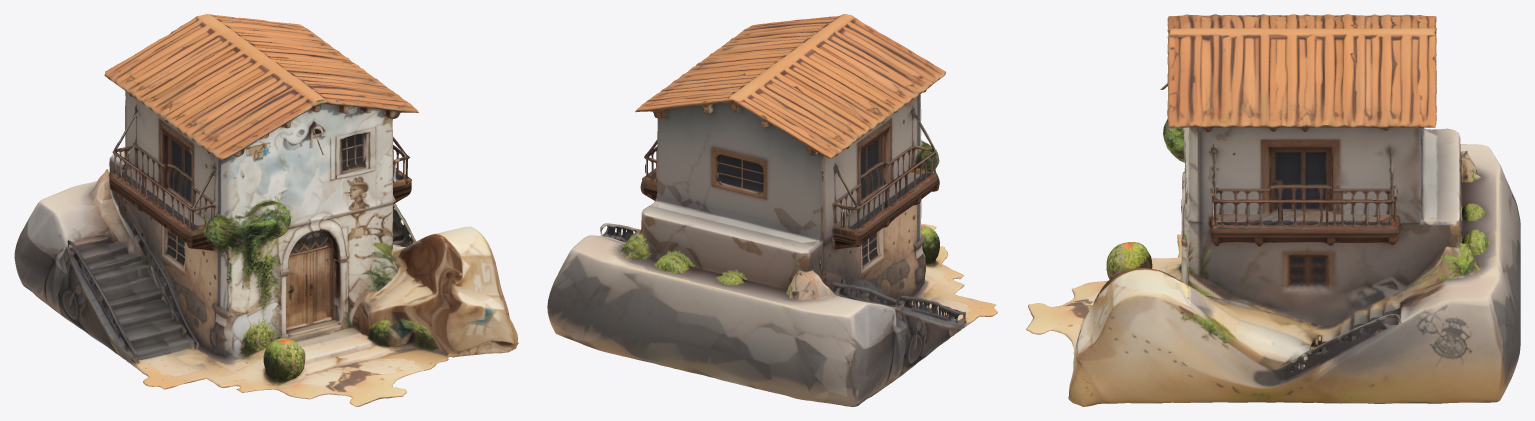
The model's file is old_castle_lev2.glb.
The picture shows the model from 3 angles, left to right: view 1: azimuth 30°, elevation 25°; view 2: azimuth 150°, elevation 25°; view 3: azimuth 270°, elevation 25°; orthographic projection. The views are drawn at different scales.
Parts seen in each view (by area): view 1: model_0.001; view 2: model_0.001; view 3: model_0.001.
Part boxes in pixels (x1,y1,x2,y2): model_0.001: [14, 14, 518, 406]; model_0.001: [547, 14, 997, 406]; model_0.001: [1026, 14, 1520, 406].
Bounding box in the file's own units: 70.82 × 53.75 × 83.22.
Materials: 1 (1 with a texture image).
